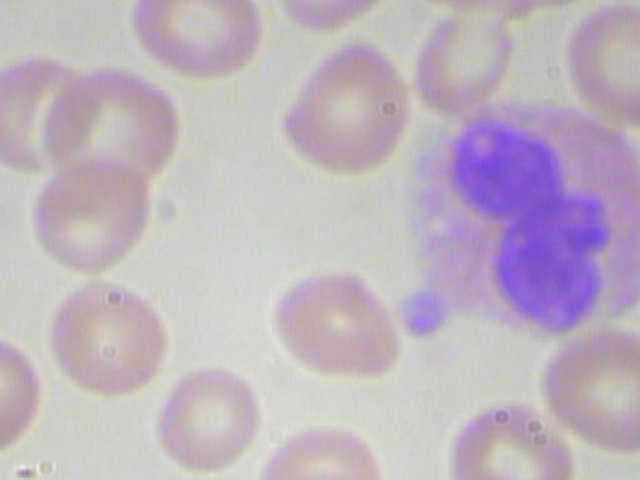Platelets: (392, 288, 450, 343)
RBC: (245, 260, 419, 391), (268, 33, 419, 183), (35, 63, 181, 197), (43, 272, 178, 400), (23, 153, 157, 281), (150, 348, 267, 472), (120, 0, 271, 87), (0, 329, 50, 457), (274, 0, 429, 37), (418, 0, 587, 11)
WBC: (408, 99, 640, 345)
